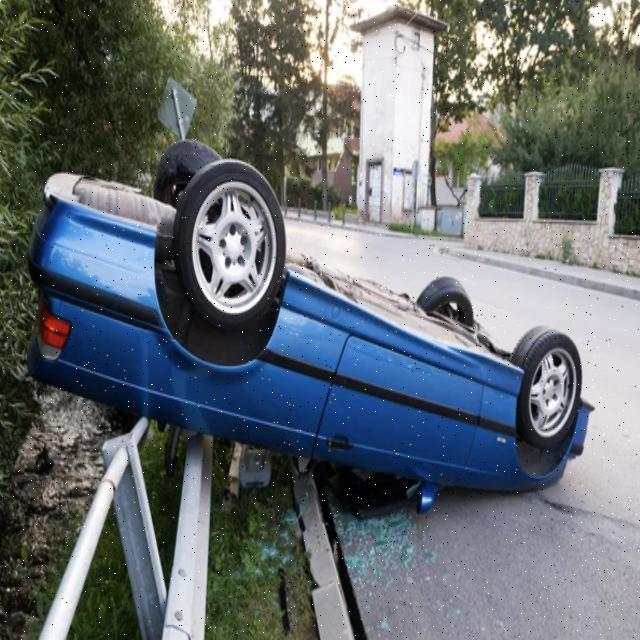severe: (27, 134, 594, 511)
